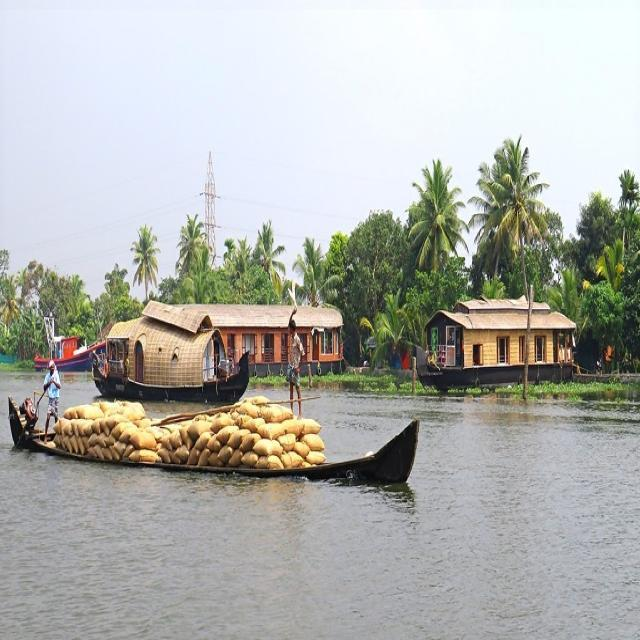Hyacinth: (518, 383, 623, 399), (365, 380, 425, 396), (322, 374, 394, 384)
boat: (0, 394, 426, 480), (89, 304, 252, 406), (414, 296, 586, 391), (28, 324, 96, 374)
